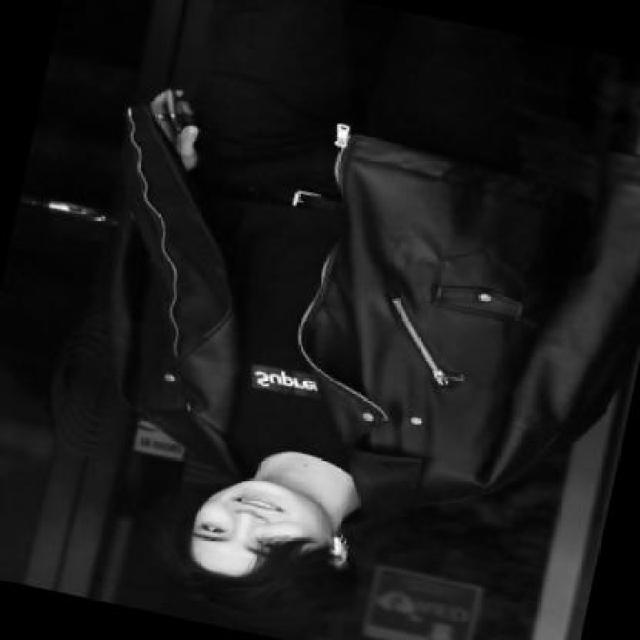earphone: (330, 518, 352, 569)
